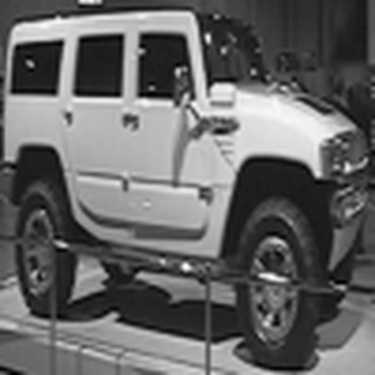car: (1, 2, 359, 350)
